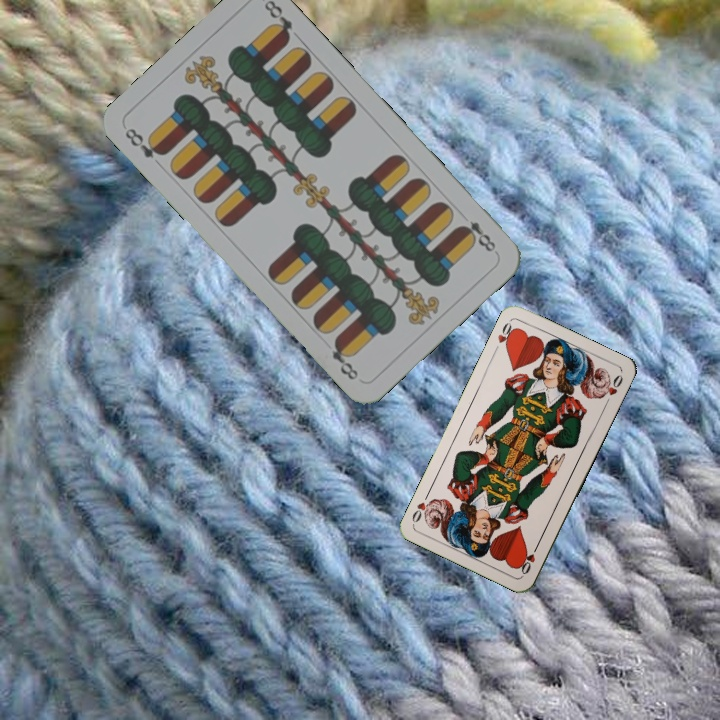E8: (120, 123, 169, 161), (455, 216, 500, 256)
HO: (490, 317, 518, 355), (517, 540, 542, 577)
